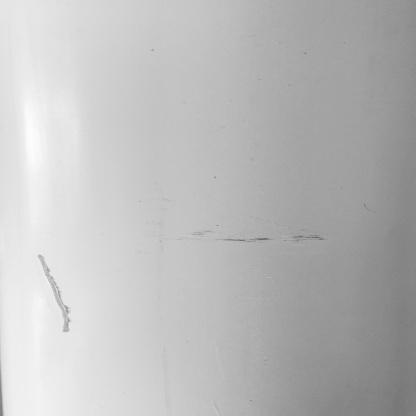sunshang: (33, 250, 77, 336)
